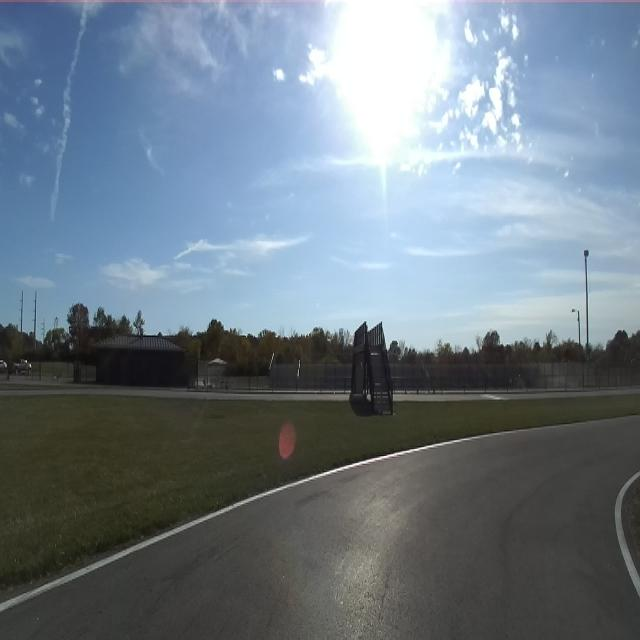white-line: (0, 425, 559, 613), (614, 471, 640, 596)
